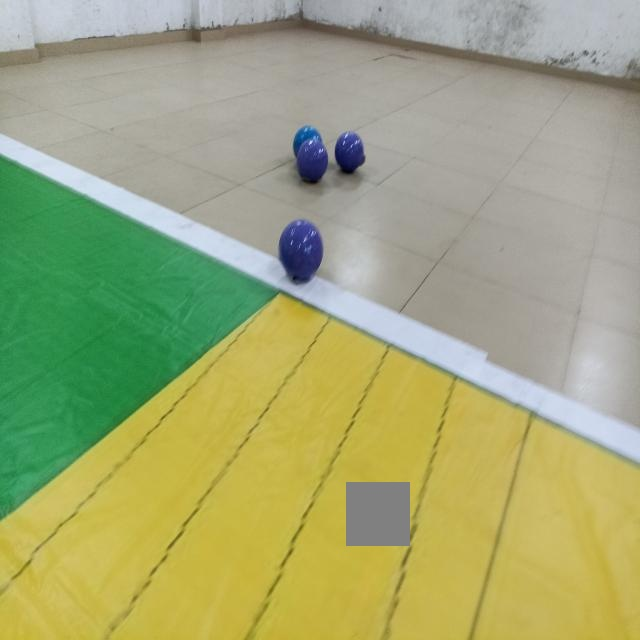blue_ball: (292, 124, 324, 152)
purple_ball: (279, 220, 325, 284), (333, 130, 367, 177), (294, 138, 330, 181)
